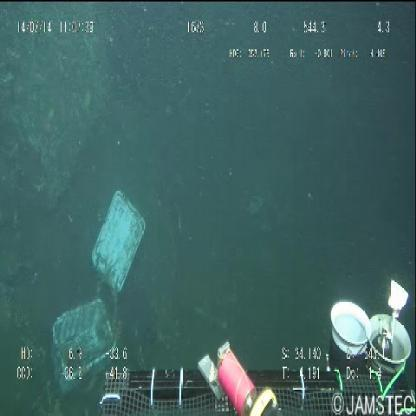Rov: (89, 276, 415, 414)
Rác: (42, 182, 150, 390)
